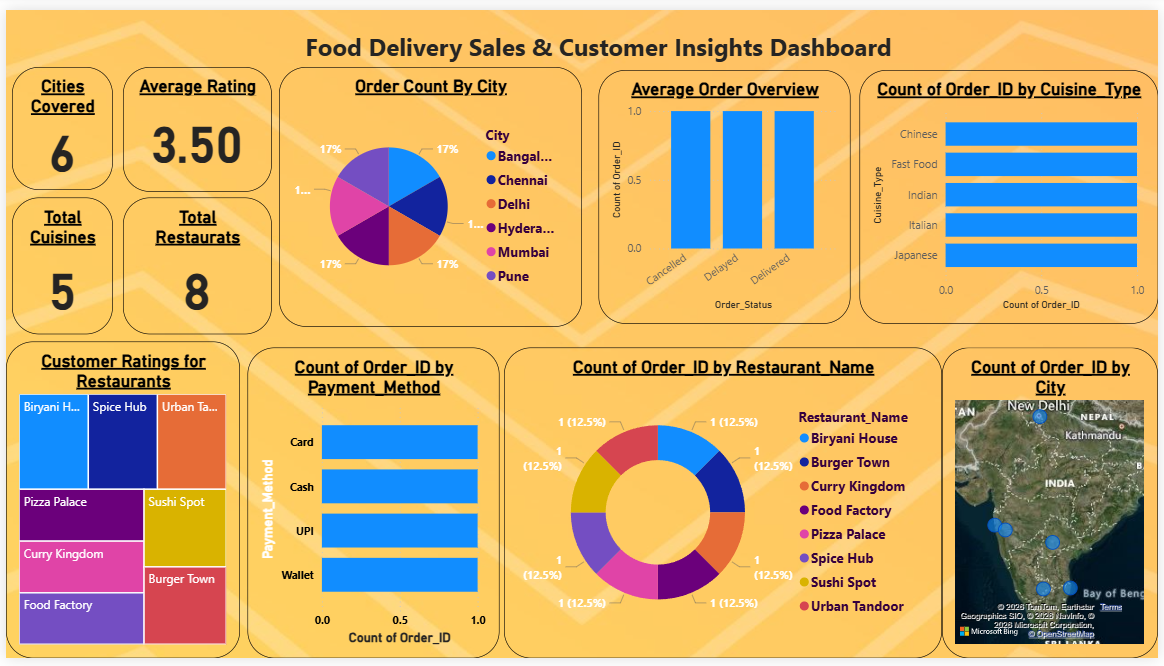

This screenshot's page, from the dashboard's own definition file:
{"tool":"powerbi","page":{"name":"Page 1","canvas":[1280,720],"ordinal":0},"visuals":[{"type":"pieChart","title":"Order Count By City","fields":{"Category":["City orders.City"],"Y":["CountNonNull(City orders.Order_ID)"]},"box":[303.3,63.3,336.7,288.3],"z":0},{"type":"columnChart","title":"Average Order Overview","fields":{"Y":["CountNonNull(orders.Order_ID)"],"Category":["orders.Order_Status"]},"box":[658.3,66.7,280,281.7],"z":1000},{"type":"barChart","fields":{"Y":["CountNonNull(Paymentmethods.Order_ID)"],"Category":["Paymentmethods.Payment_Method"]},"box":[268.3,375,280,345],"z":2000},{"type":"barChart","fields":{"Category":["Cuisine orders.Cuisine_Type"],"Y":["CountNonNull(Cuisine orders.Order_ID)"]},"box":[948.3,66.7,331.7,281.7],"z":3000},{"type":"treemap","title":"Customer Ratings for Restaurants","fields":{"Values":["Sum(Restaurant Rating.Customer_Rating)"],"Group":["Restaurant Rating.Restaurant_Name"]},"box":[0,368.3,260,351.7],"z":4000},{"type":"donutChart","fields":{"Category":["Restaurant order.Restaurant_Name"],"Y":["CountNonNull(Restaurant order.Order_ID)"]},"box":[553.3,375,486.7,345],"z":5000},{"type":"map","fields":{"Category":["City orders.City"],"Size":["CountNonNull(City orders.Order_ID)"]},"box":[1040,375,240,345],"z":6000},{"type":"textbox","box":[296.7,16.7,723.3,53.3],"z":7000},{"type":"card","title":"Total Restaurats","fields":{"Values":["City orders.Total Restaurants"]},"box":[130,208.3,165,151.7],"z":8000},{"type":"card","title":"Average Rating","fields":{"Values":["City orders.Average Rating"]},"box":[130,63.3,165,138.3],"z":9000},{"type":"card","title":"Total Cuisines","fields":{"Values":["City orders.Total Cuisine2"]},"box":[6.7,208.3,111.7,151.7],"z":10000},{"type":"card","title":"Cities Covered","fields":{"Values":["City orders.Cities Covered"]},"box":[6.7,63.3,111.7,136.7],"z":11000}]}

Visuals, with their boxes in screenshot pixels (x1, y1, x2, y2), scaled from the page's 1280x720 canvas onto the 1164x666 screenshot:
"Order Count By City" pieChart: left=276, top=59, right=582, bottom=325
"Average Order Overview" columnChart: left=599, top=62, right=853, bottom=322
barChart - CountNonNull(Paymentmethods.Order_ID) x Paymentmethods.Payment_Method: left=244, top=347, right=499, bottom=665
barChart - Cuisine orders.Cuisine_Type x CountNonNull(Cuisine orders.Order_ID): left=862, top=62, right=1163, bottom=322
"Customer Ratings for Restaurants" treemap: left=0, top=341, right=236, bottom=665
donutChart - Restaurant order.Restaurant_Name x CountNonNull(Restaurant order.Order_ID): left=503, top=347, right=946, bottom=665
map - City orders.City x CountNonNull(City orders.Order_ID): left=946, top=347, right=1163, bottom=665
textbox: left=270, top=15, right=928, bottom=65
"Total Restaurats" card: left=118, top=193, right=268, bottom=333
"Average Rating" card: left=118, top=59, right=268, bottom=186
"Total Cuisines" card: left=6, top=193, right=108, bottom=333
"Cities Covered" card: left=6, top=59, right=108, bottom=185
